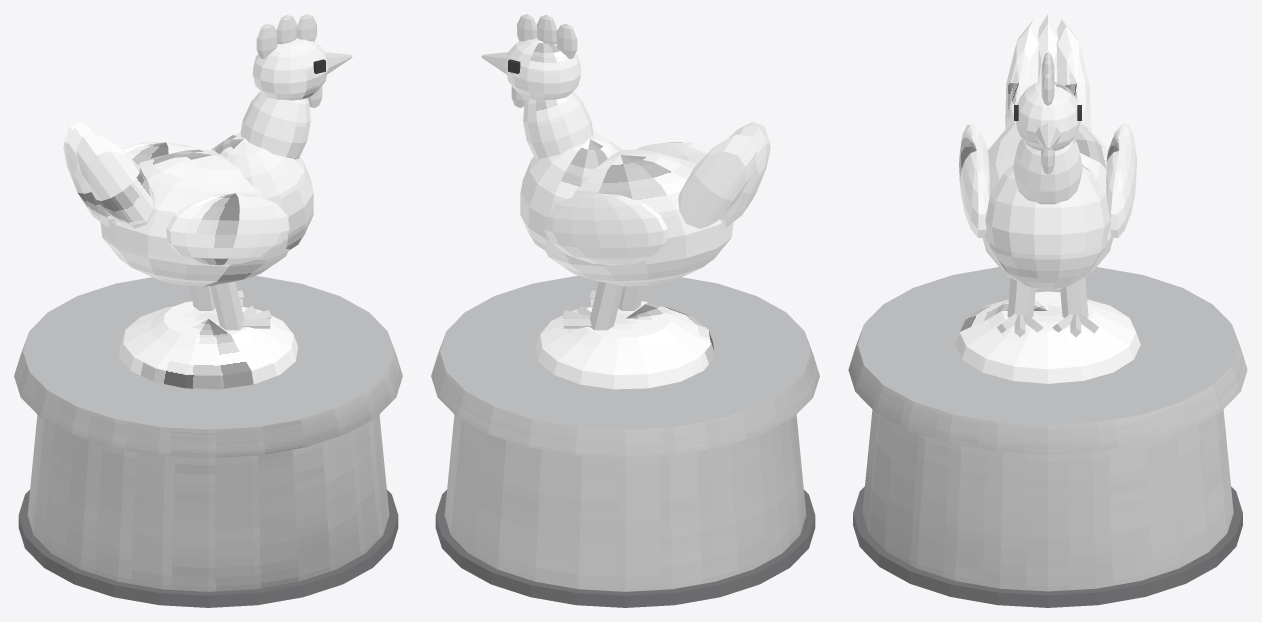
Rendered from Building_SculptureSmall__BustC.glb.
3 views of the same model, side by side, from view 1: azimuth 30°, elevation 25°; view 2: azimuth 150°, elevation 25°; view 3: azimuth 270°, elevation 25° (orthographic). The views are drawn at different scales.
Visible parts, largest first — view 1: SculptureSmall__BustC; view 2: SculptureSmall__BustC; view 3: SculptureSmall__BustC.
Part boxes in pixels (x1,y1,x2,y2): SculptureSmall__BustC: (14,14,402,607); SculptureSmall__BustC: (431,14,819,607); SculptureSmall__BustC: (848,14,1247,607).
Bounding box in the file's own units: 0.86 × 1.21 × 0.86.
1 material, 1 textured.
